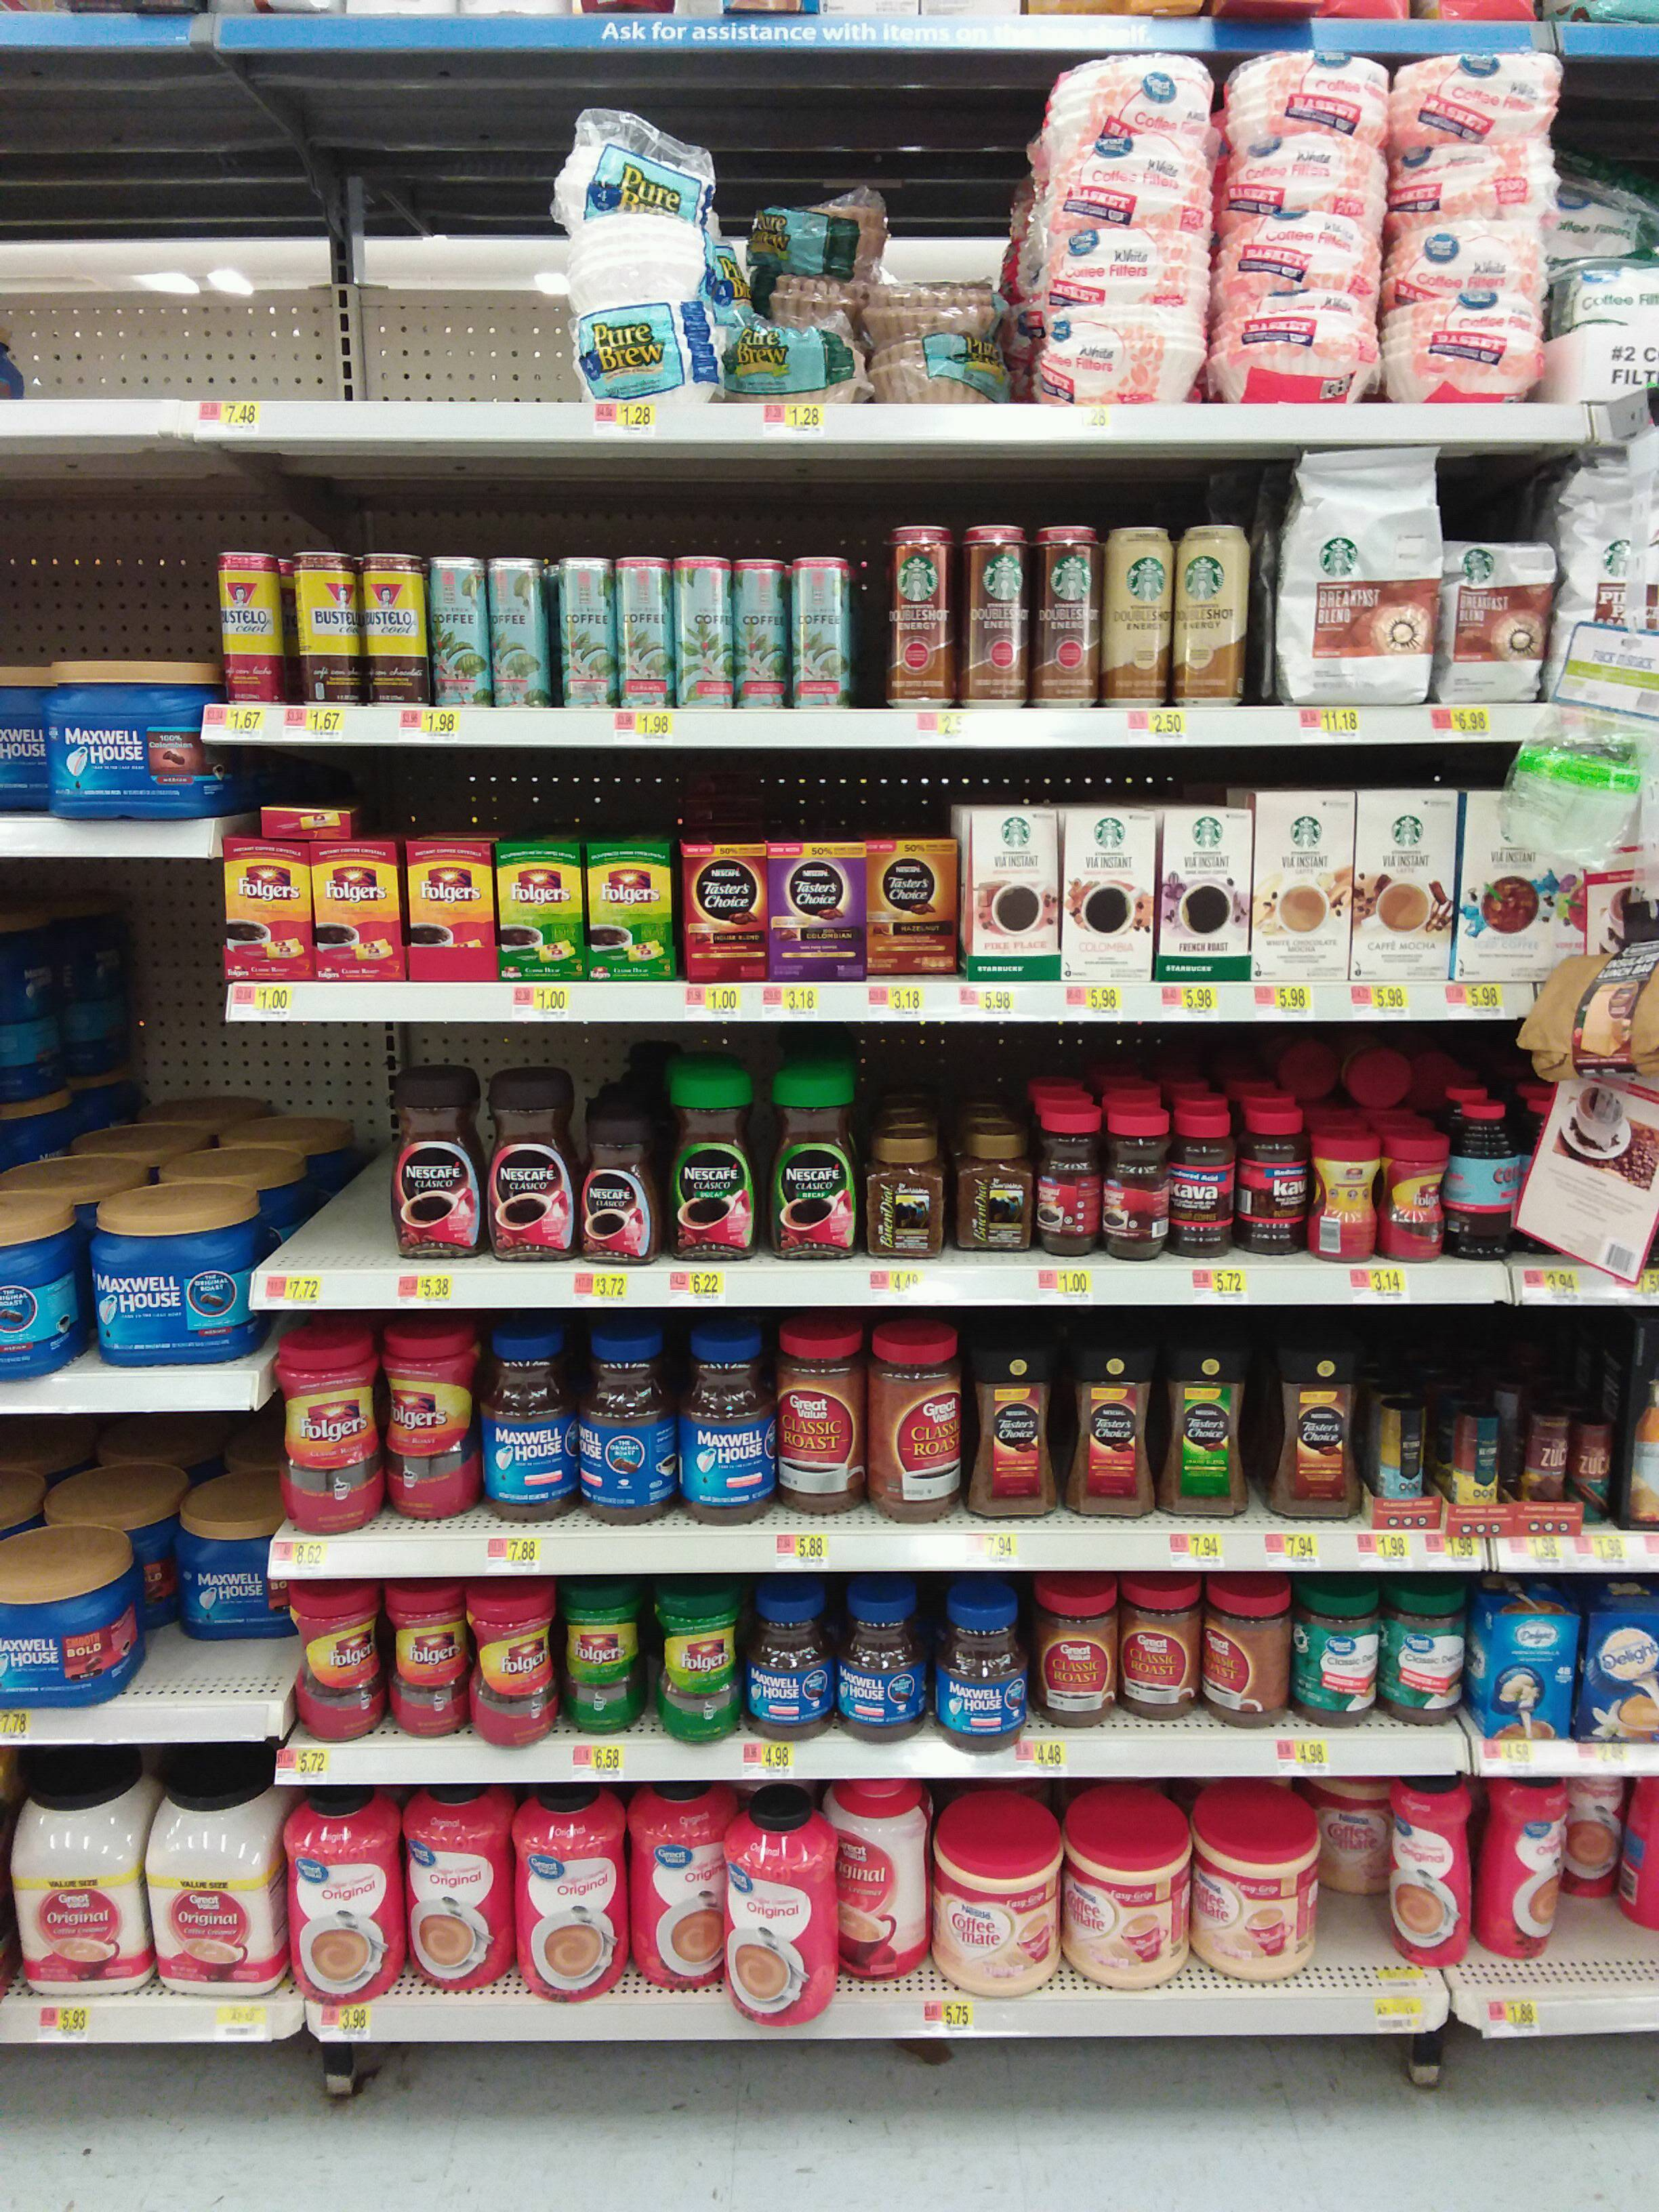Misplacement: (1316, 1777, 1394, 1996)
Out-of-stock: (28, 219, 523, 402)
